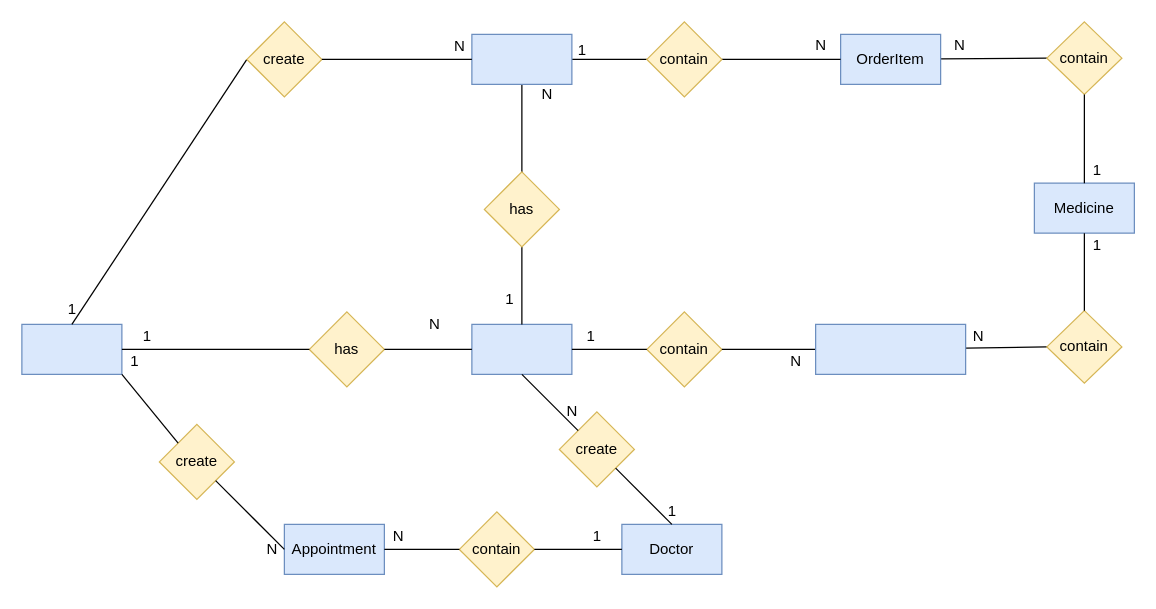
This 1156x609 diagram has some shape labels left out. The shapes that lost their labels are listed below. From the top down, each one's centre as x and y in pixels, then its label:
At (521,58): "Order".
At (71,348): "Patient".
At (521,348): "Prescription".
At (890,348): "PrescriptionDetail".
